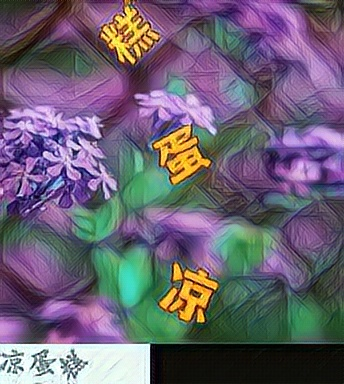B5B0: (151, 121, 216, 185)
B8E2: (97, 4, 162, 68)
C1B9: (154, 261, 219, 325)
